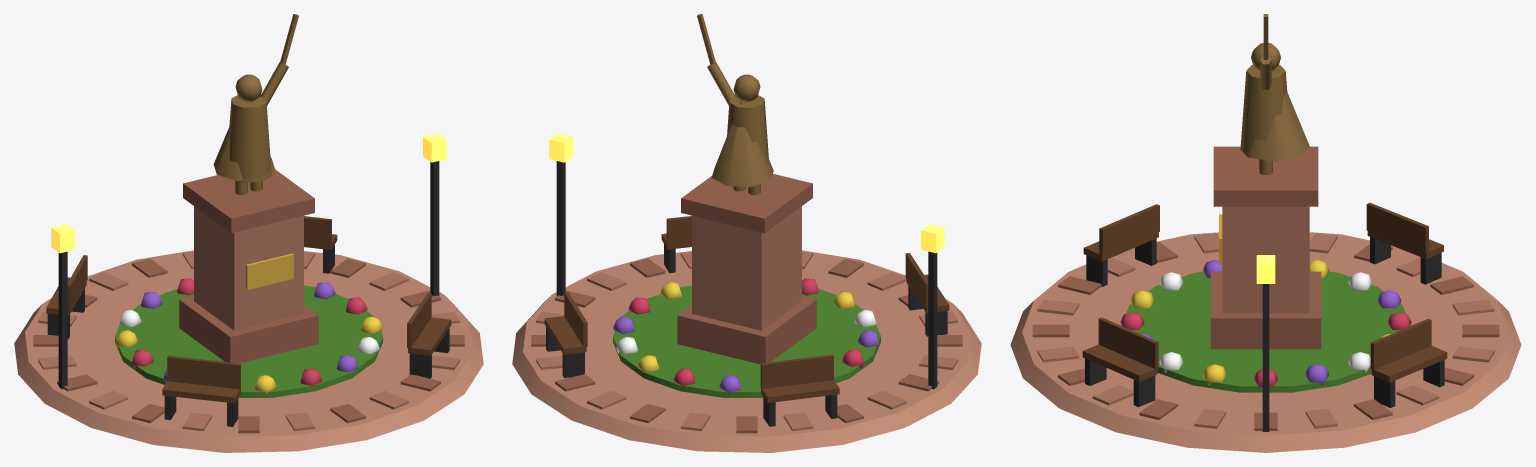
Rendered from denkmal.glb.
The picture shows the model from 3 angles, left to right: view 1: azimuth 30°, elevation 25°; view 2: azimuth 150°, elevation 25°; view 3: azimuth 270°, elevation 25°; orthographic projection. The views are drawn at different scales.
Bounding box in the file's own units: 4.4 × 3.37 × 4.4.
